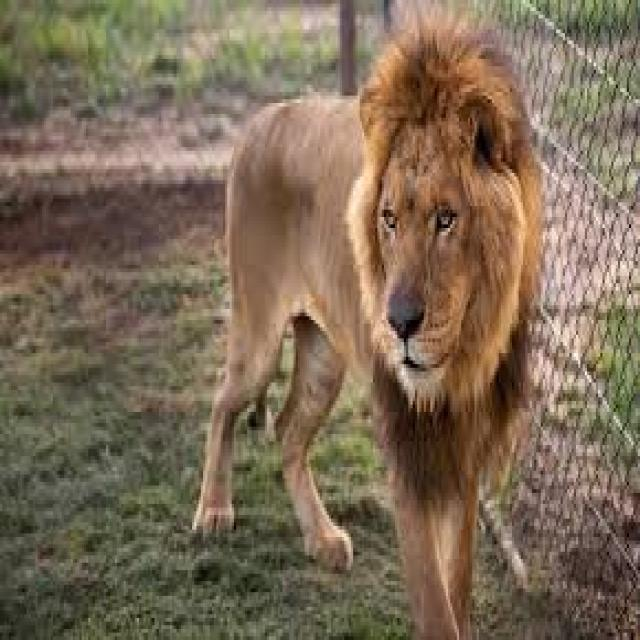Lion: (196, 37, 528, 631)
